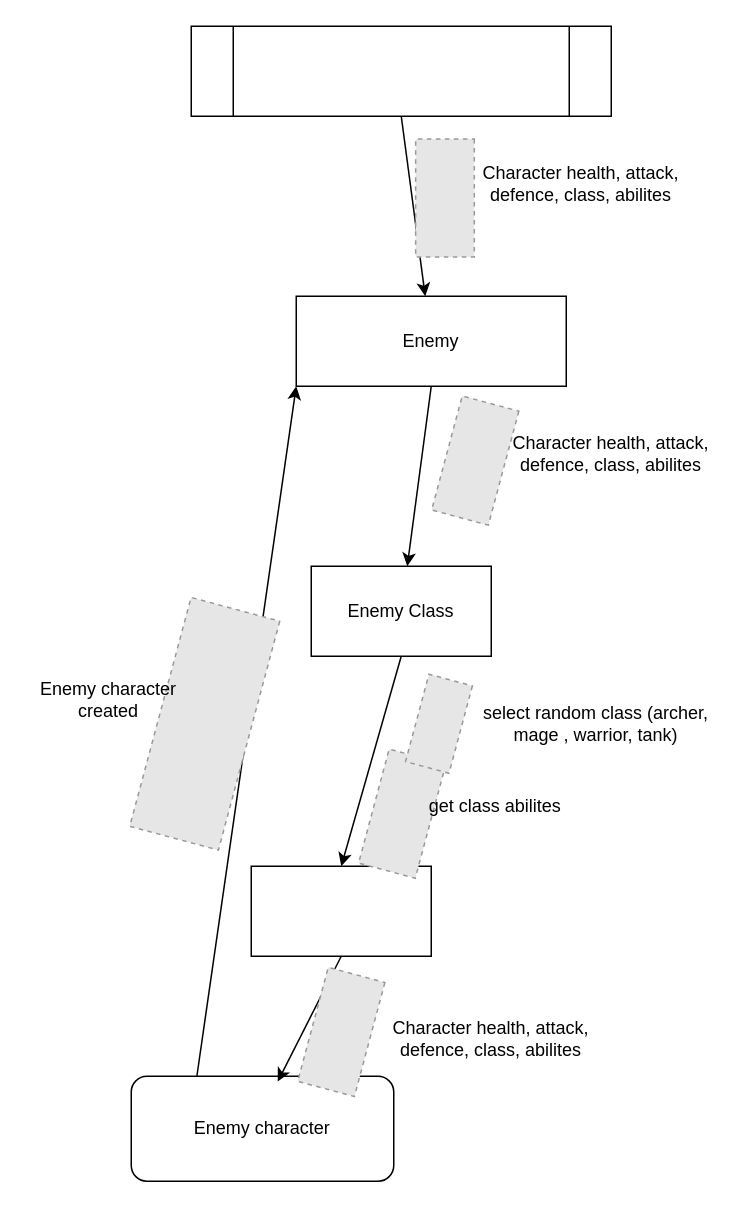
The diagram is 756 pixels wide and 1208 high, and some of its shapes have lost their labels. Grey dashed boxes stand in for pictures. Each missing label, with the centre of its shape:
Enemy Abilites: point 340,910
Fighter: point 400,70
